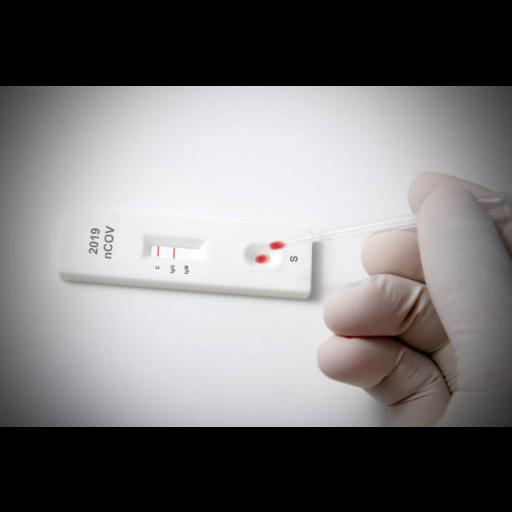Pos: (59, 209, 312, 292)
